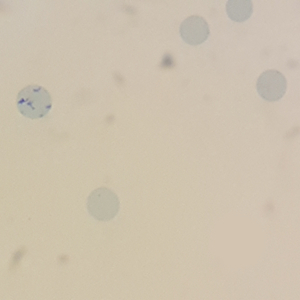aggregate reticulocyte: (14, 83, 54, 121)
erythrocyte: (178, 14, 212, 48)
punctate reticulocyte: (85, 186, 122, 224), (254, 68, 289, 103)
